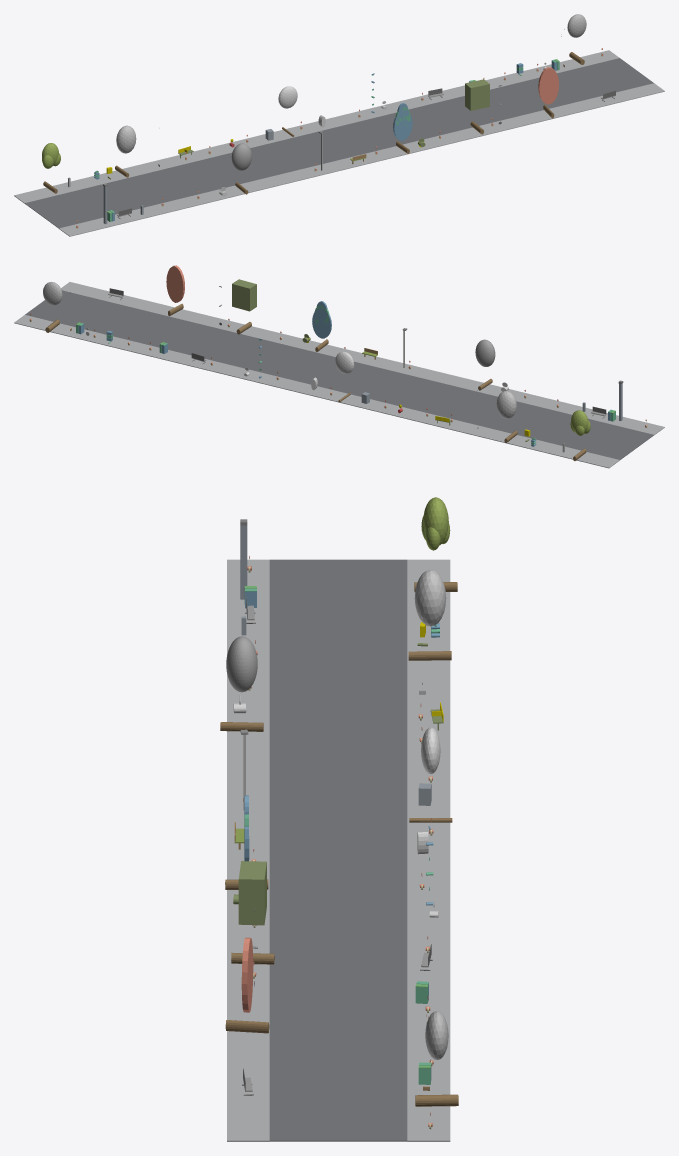
3 views of the same model, one above another, from view 1: azimuth 30°, elevation 25°; view 2: azimuth 150°, elevation 25°; view 3: azimuth 270°, elevation 25° (orthographic). The views are drawn at different scales.
Visible parts, largest first — view 1: road_slab, sidewalk_left, sidewalk_right, inst_0023, inst_0024, inst_0022, inst_0019, inst_0020, inst_0018, inst_0025, inst_0021; view 2: road_slab, sidewalk_right, sidewalk_left, inst_0023, inst_0024, inst_0022, inst_0019, inst_0020, inst_0018, inst_0025, inst_0021; view 3: road_slab, sidewalk_right, sidewalk_left, inst_0023, inst_0019, inst_0020, inst_0025, inst_0018, inst_0024, inst_0021.
Part boxes in pixels (box(x1,y1,x2,y2)): road_slab: box(25, 58, 653, 228); sidewalk_left: box(59, 83, 664, 236); sidewalk_right: box(14, 50, 619, 203); inst_0023: box(465, 79, 489, 134); inst_0024: box(538, 67, 559, 118); inst_0022: box(393, 103, 412, 153); inst_0019: box(115, 125, 136, 177); inst_0020: box(231, 143, 251, 194); inst_0018: box(42, 143, 60, 193); inst_0025: box(567, 14, 586, 64); inst_0021: box(278, 86, 297, 136); road_slab: box(25, 290, 653, 459); sidewalk_right: box(14, 315, 619, 468); sidewalk_left: box(61, 282, 664, 434); inst_0023: box(232, 279, 256, 334); inst_0024: box(166, 265, 184, 316); inst_0022: box(312, 301, 331, 351); inst_0019: box(496, 391, 517, 442); inst_0020: box(475, 339, 495, 390); inst_0018: box(570, 410, 590, 460); inst_0025: box(43, 282, 62, 332); inst_0021: box(335, 351, 354, 402); road_slab: box(269, 559, 407, 1141); sidewalk_right: box(407, 559, 450, 1141); sidewalk_left: box(227, 559, 269, 1141); inst_0023: box(231, 861, 274, 964); inst_0019: box(408, 569, 451, 660); inst_0020: box(220, 636, 263, 731); inst_0025: box(415, 1011, 458, 1106); inst_0018: box(414, 497, 457, 591); inst_0024: box(225, 937, 269, 1033); inst_0021: box(409, 727, 452, 822).
Bounding box in the file's own units: 80 × 6.08 × 13.87.
